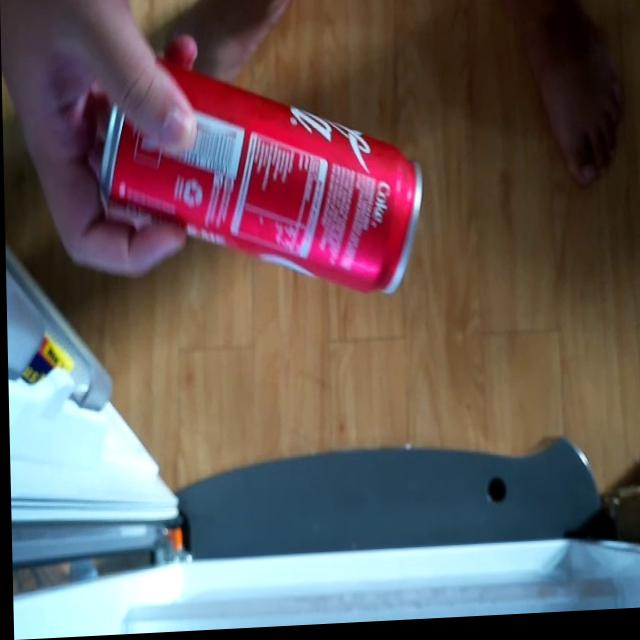coke: (86, 36, 433, 312)
